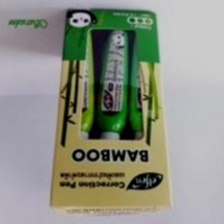book: (46, 4, 179, 219)
correction_fluid: (91, 13, 132, 192), (59, 13, 98, 191), (124, 13, 163, 190)
